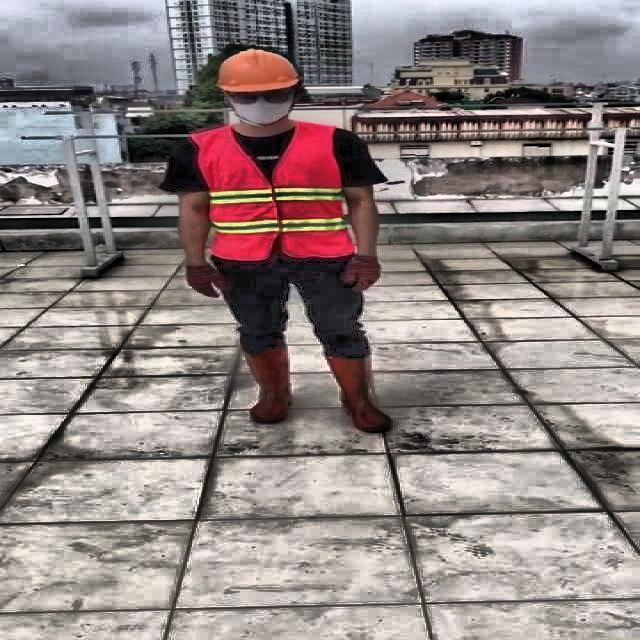safety_helmet: (174, 41, 408, 434), (210, 48, 306, 92)
safety_jacket: (194, 123, 350, 261)
